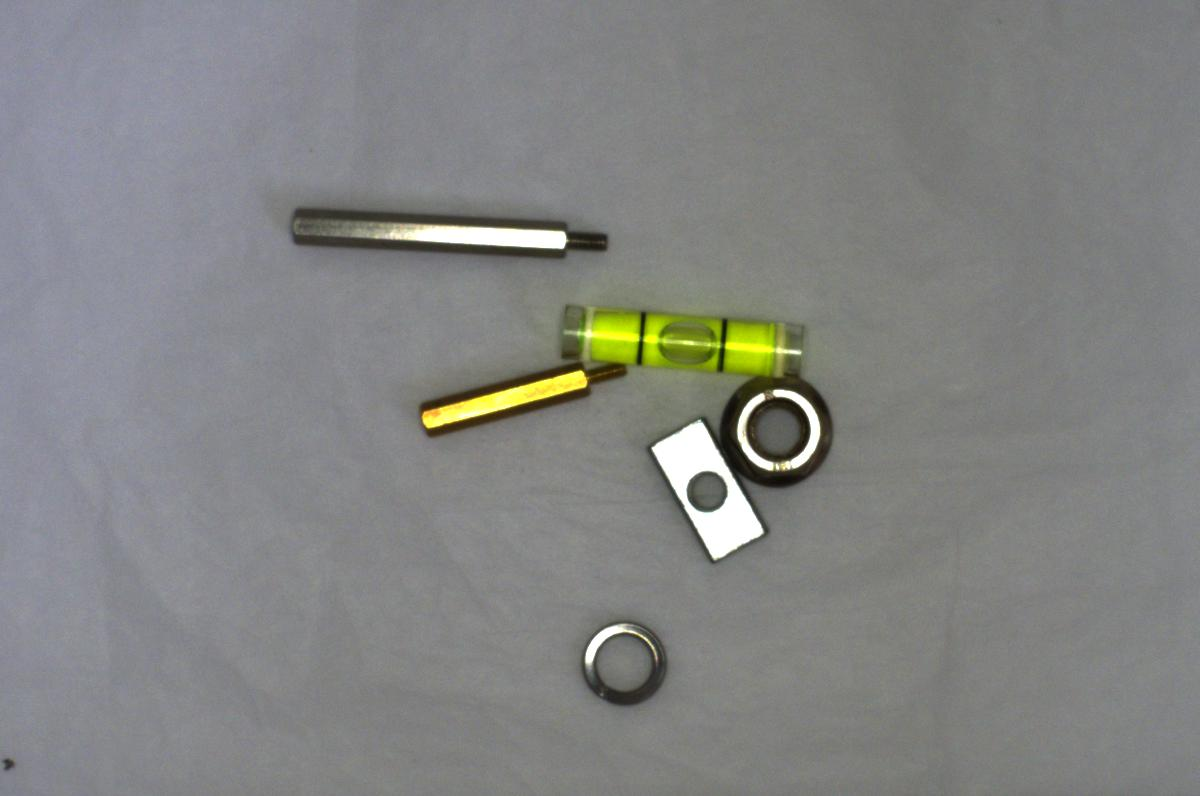Flange nut: (714, 373, 840, 487)
Hexagon pillar: (405, 353, 634, 440)
Hexagonal steel column: (286, 196, 611, 261)
Horizontal bubble: (550, 290, 808, 381)
Rectangular nut: (646, 416, 775, 572)
Spring washer: (571, 613, 671, 716)
